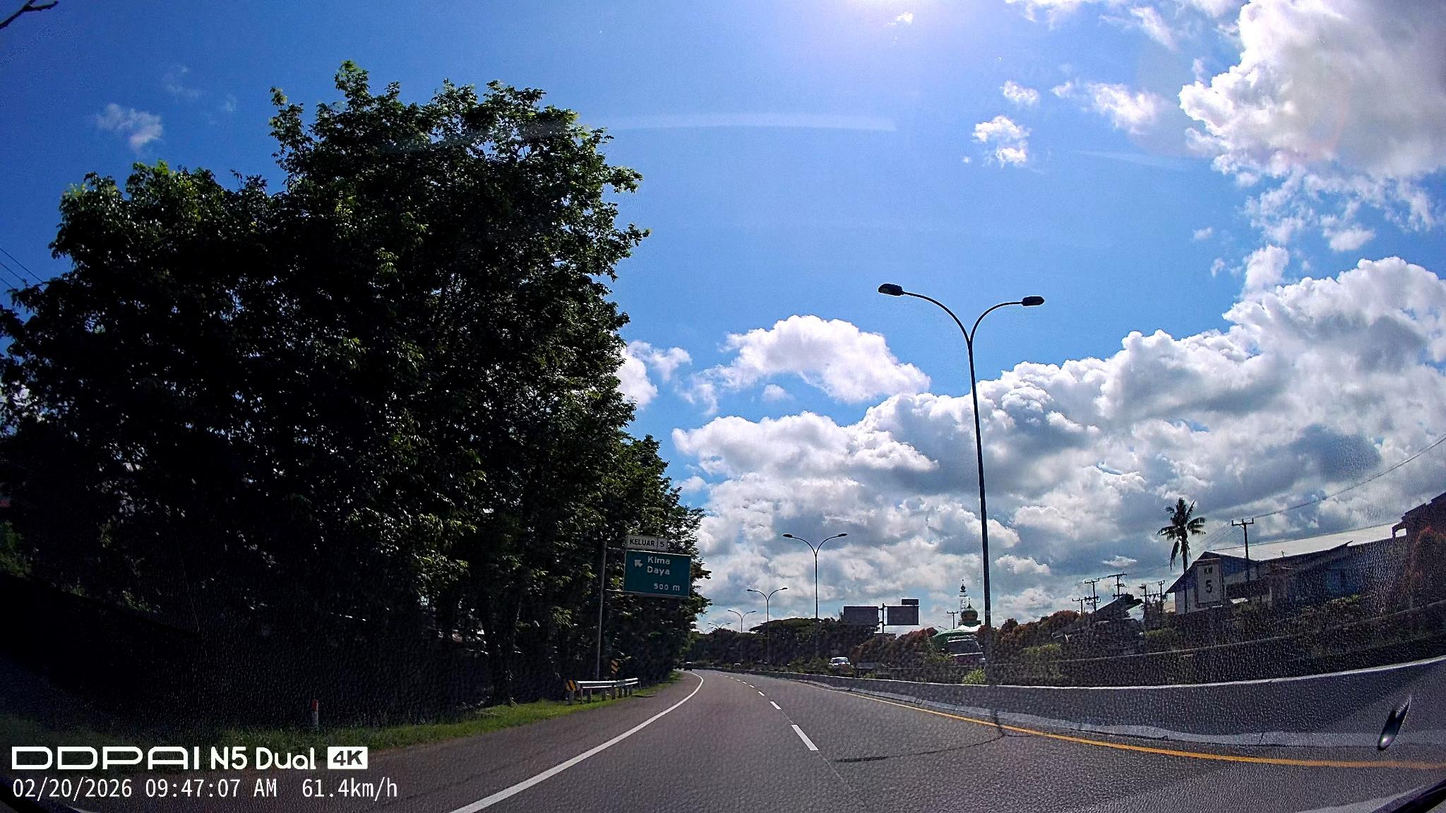rambu_teks: (622, 549, 692, 598)
